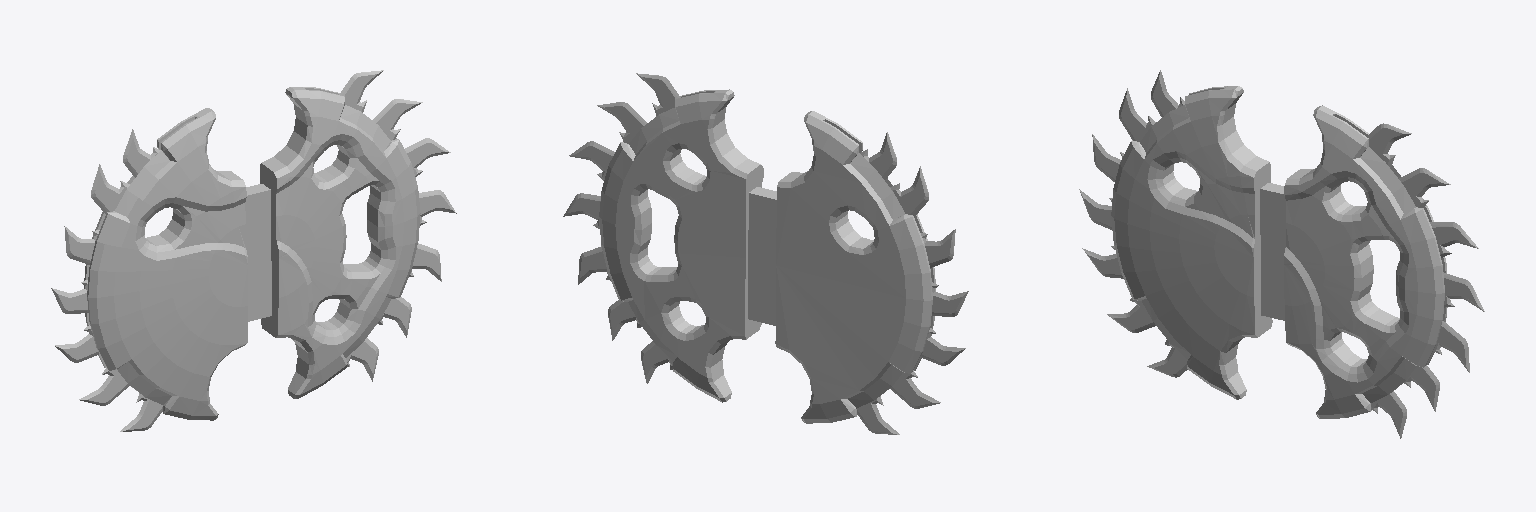
Rendered from p_disk.obj.
3 renders of one model, left to right at view 1: azimuth 30°, elevation 25°; view 2: azimuth 150°, elevation 25°; view 3: azimuth 330°, elevation 25°, orthographic.
Visible parts, largest first — view 1: studio.reference.smd.mesh_0; view 2: studio.reference.smd.mesh_0; view 3: studio.reference.smd.mesh_0.
Boxes of the visible parts, x1,y1,x2,y2 form: studio.reference.smd.mesh_0: [51, 70, 456, 431]; studio.reference.smd.mesh_0: [563, 73, 968, 434]; studio.reference.smd.mesh_0: [1079, 70, 1484, 438].
Bounding box in the file's own units: 12.32 × 9.1 × 0.9845.